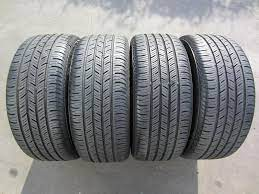tire: (179, 33, 256, 160), (6, 33, 79, 161), (130, 33, 193, 161), (68, 33, 130, 162)
